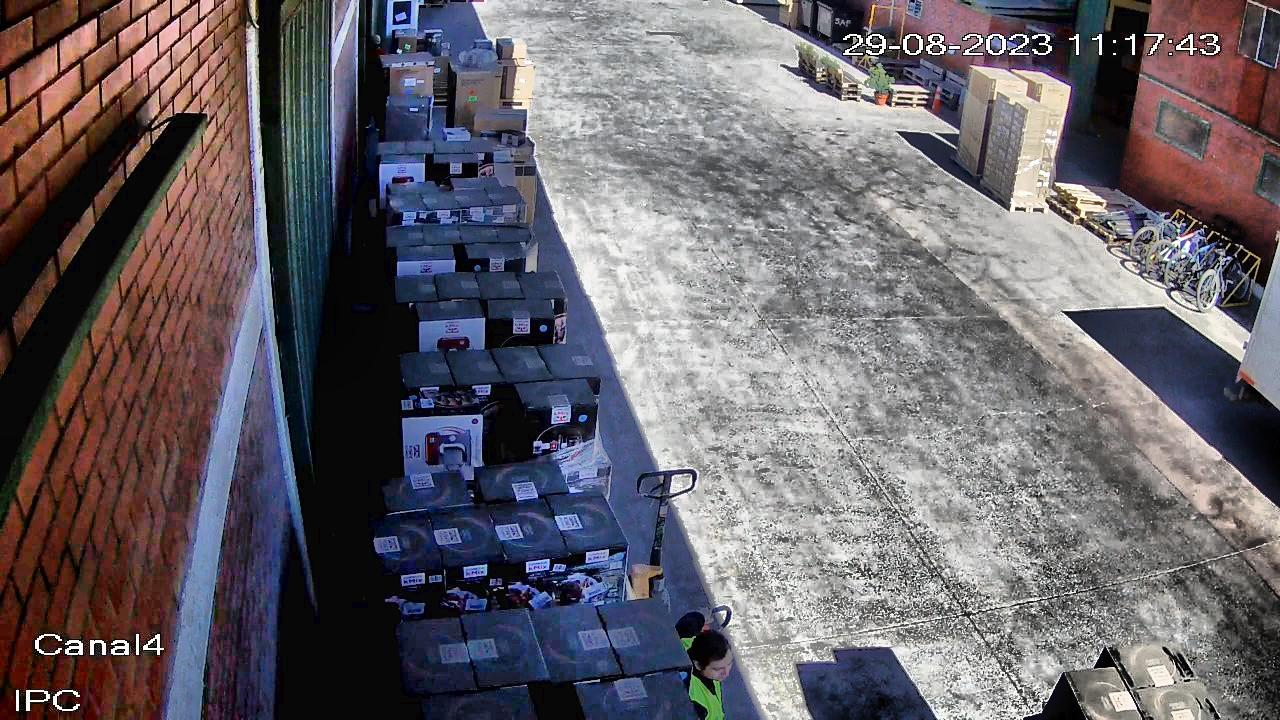con-chaleco: (675, 637, 730, 720)
persona: (650, 601, 767, 720)
sin-casco: (689, 626, 738, 686)
